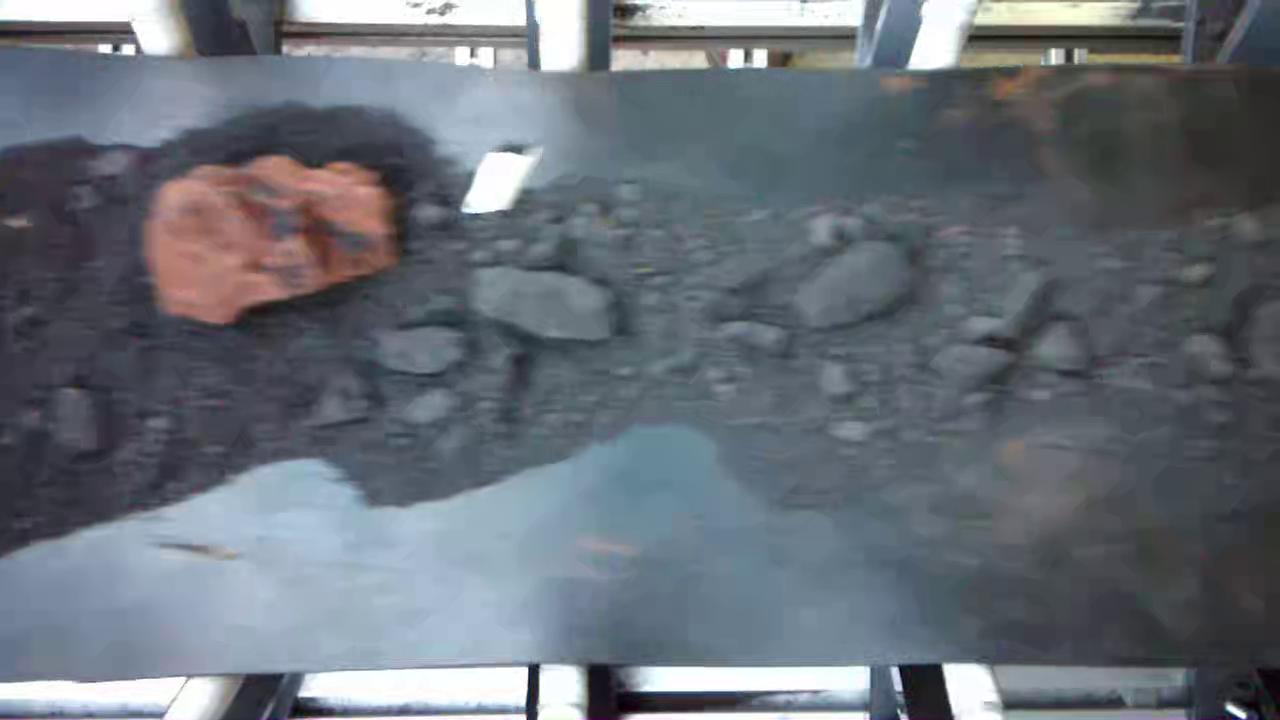conveyor: (7, 74, 1276, 656)
